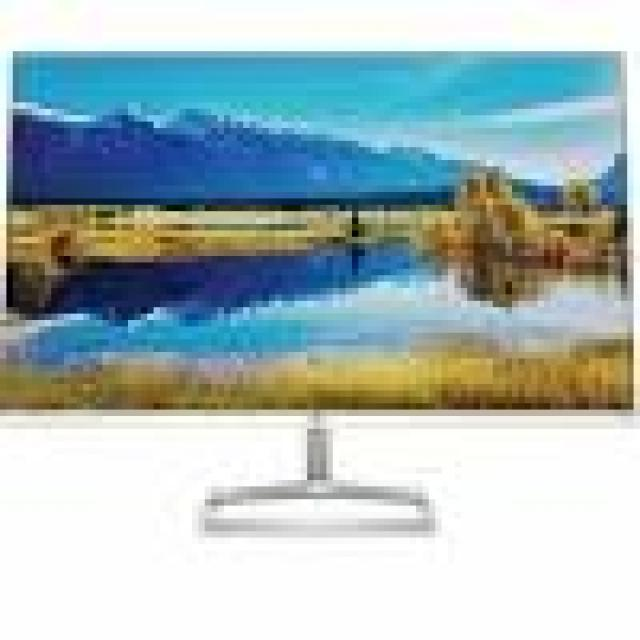monitor: (6, 38, 640, 560)
